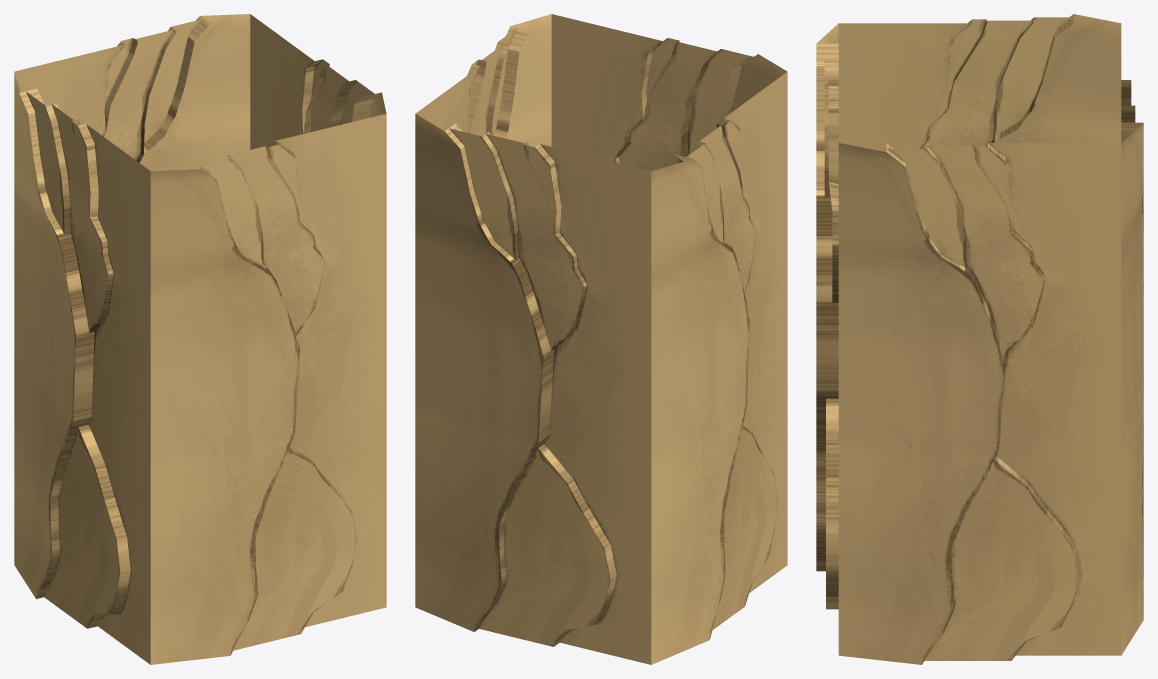
The model's file is wall_1.obj.
3 views of the same model, side by side, from view 1: azimuth 30°, elevation 25°; view 2: azimuth 150°, elevation 25°; view 3: azimuth 270°, elevation 25° (orthographic). The views are drawn at different scales.
Parts seen in each view (by area): view 1: polySurface34; view 2: polySurface34; view 3: polySurface34.
Boxes of the visible parts, box(x1,y1,x2,y2) form: polySurface34: box(14, 14, 386, 664); polySurface34: box(415, 14, 787, 664); polySurface34: box(816, 14, 1143, 664).
Size of the model in its own units: 2.31 by 4 by 2.31.
